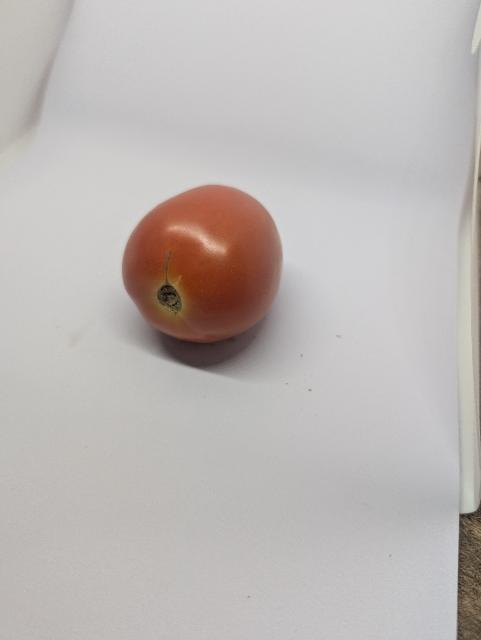red: (111, 175, 296, 363)
